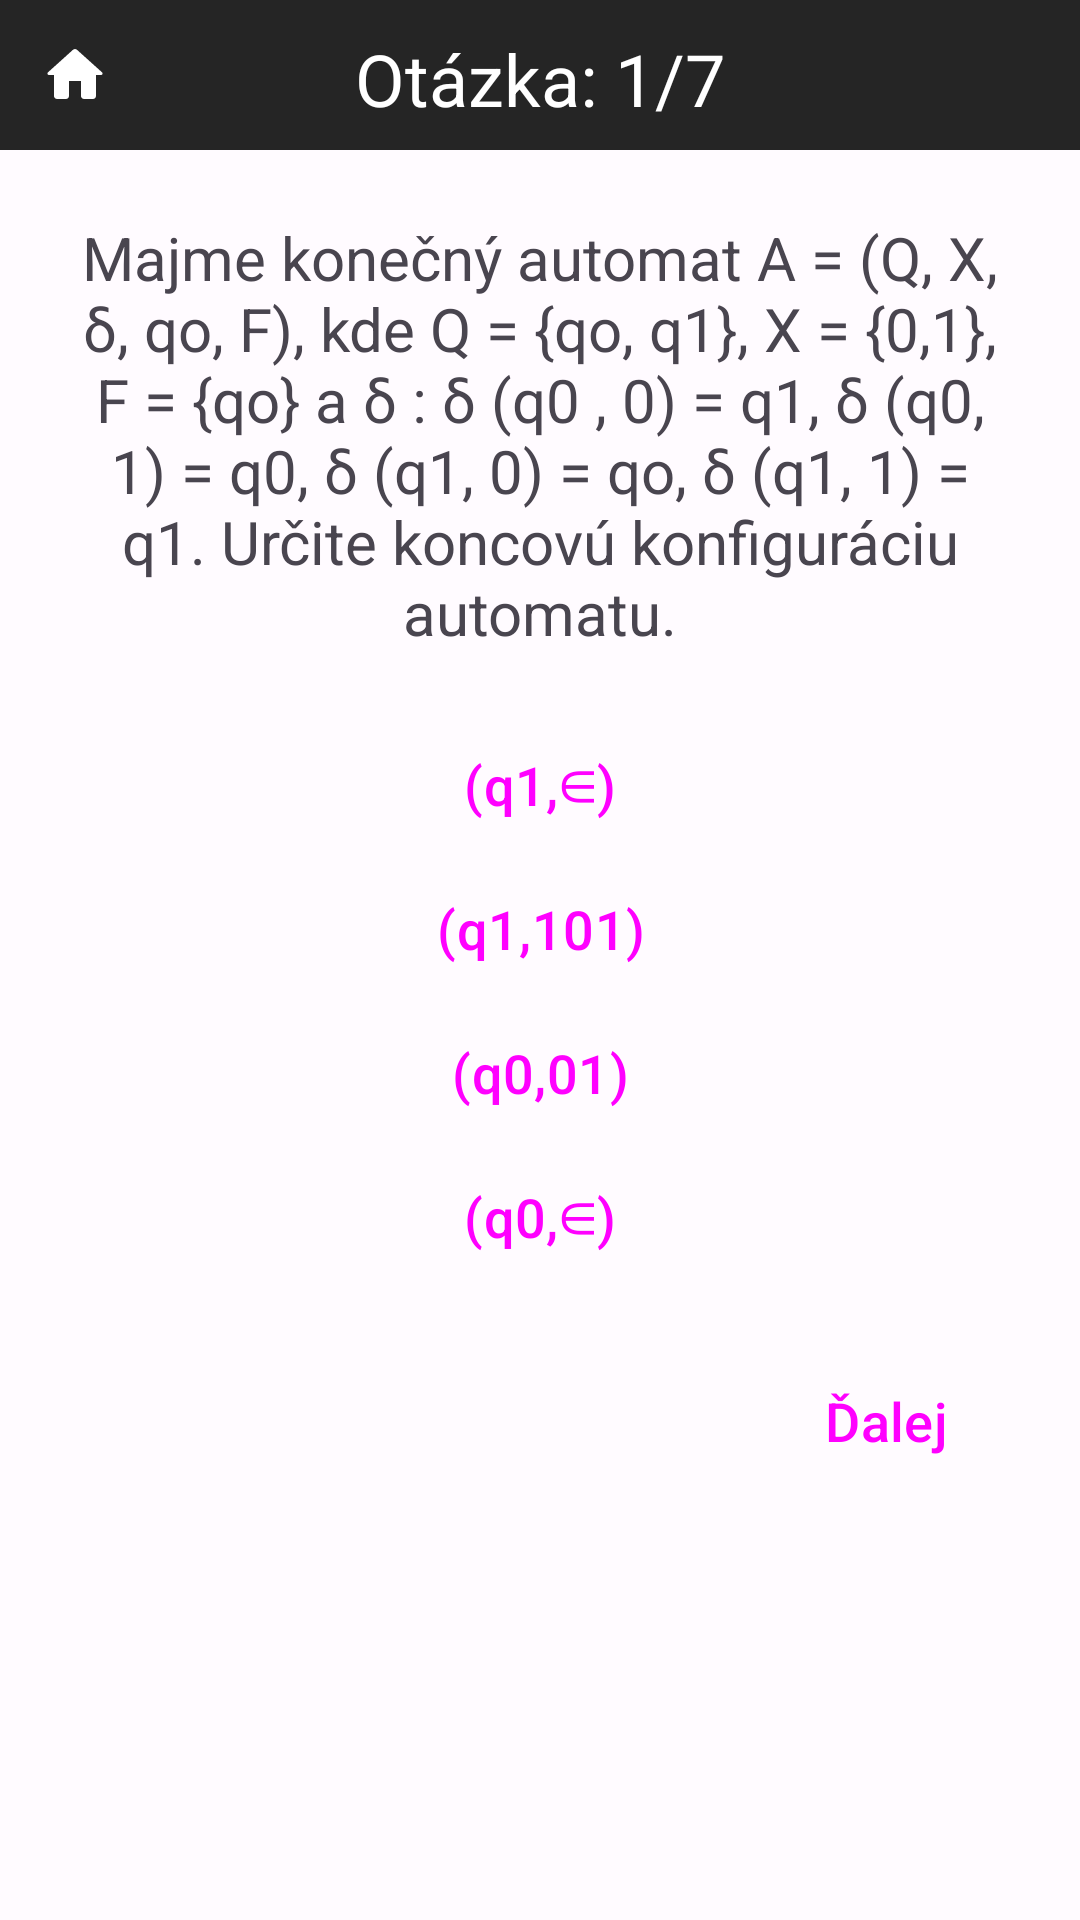

Screen size 1080 x 1920. Icon name, then its box in pixels as (x1, y1, x2, y2):
domov: (47, 49, 103, 99)
